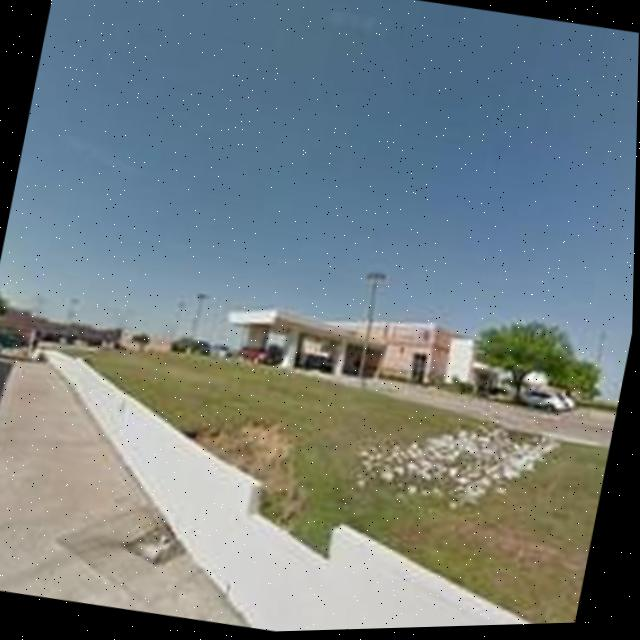building: (219, 282, 505, 406)
